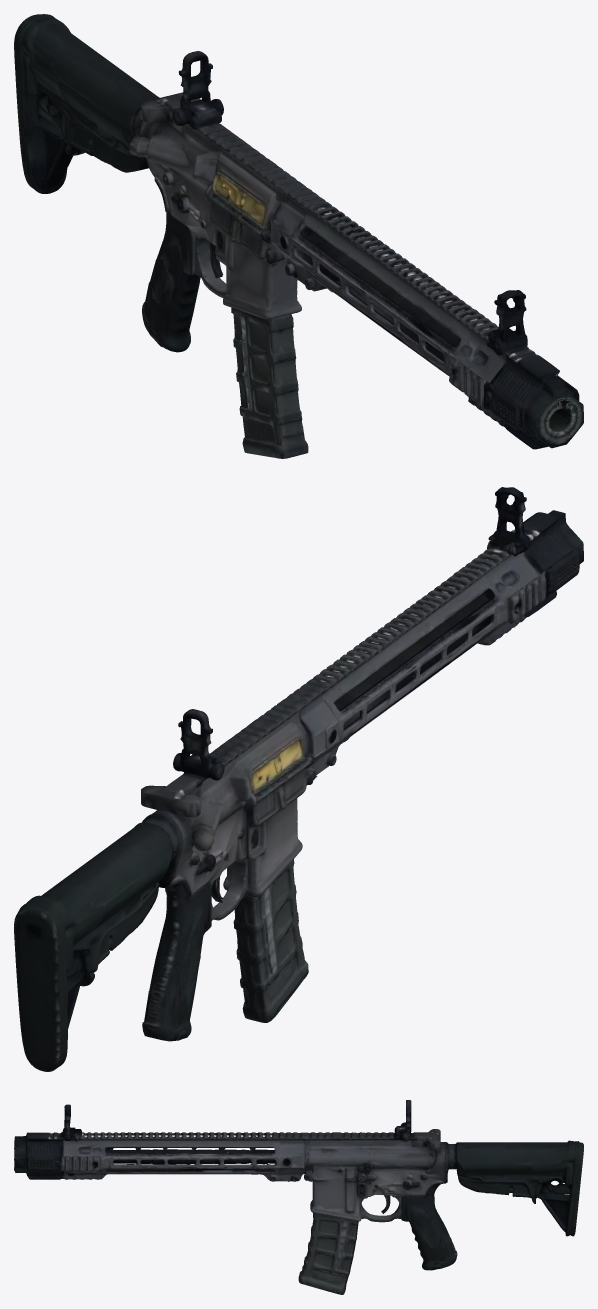
The model's file is Hi3D_Realistic Tactical AR-15 Rifle 3D Model_allparts_20260825_141113-optimized.glb.
The picture shows the model from 3 angles, top to bottom: view 1: azimuth 30°, elevation 25°; view 2: azimuth 150°, elevation 25°; view 3: azimuth 270°, elevation 25°; orthographic projection. The views are drawn at different scales.
Visible parts, largest first — view 1: geometry_0; view 2: geometry_0; view 3: geometry_0.
Boxes of the visible parts, left/top/right/bottom form: geometry_0: left=14, top=14, right=583, bottom=458; geometry_0: left=14, top=487, right=583, bottom=1071; geometry_0: left=14, top=1100, right=583, bottom=1294.
Size of the model in its own units: 0.0832 by 0.3697 by 0.9999.
Materials: 1 (1 with a texture image).
